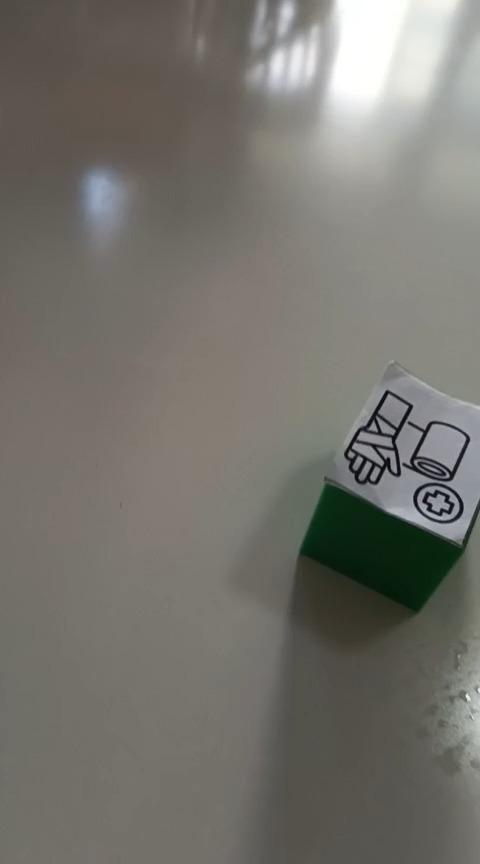Bandages: (298, 358, 479, 613)
